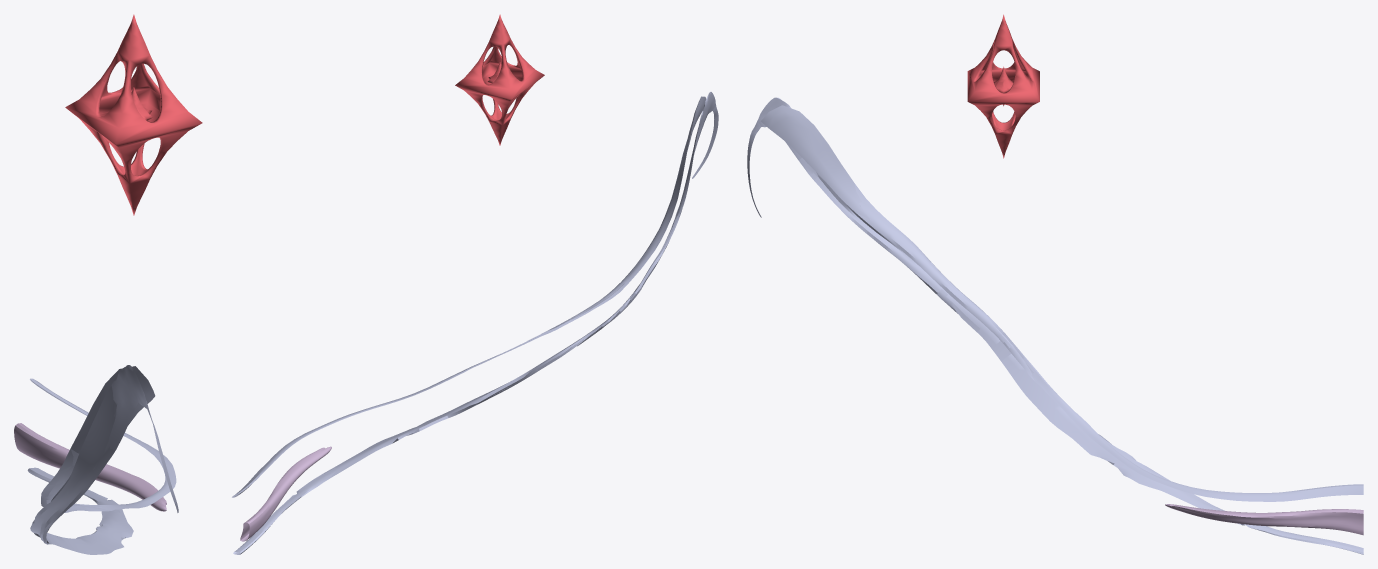
The model's file is SM_Butterfly_Behind_LT_5.fbx.
3 renders of one model, left to right at view 1: azimuth 30°, elevation 25°; view 2: azimuth 150°, elevation 25°; view 3: azimuth 270°, elevation 25°, orthographic. The views are drawn at different scales.
Visible parts, largest first — view 1: 5; view 2: 5; view 3: 5.
Part boxes in pixels (box(x1,y1,x2,y2)): 5: box(14, 14, 202, 554); 5: box(232, 14, 718, 554); 5: box(747, 14, 1363, 554).
Bounding box in the file's own units: 85.93 × 161 × 184.
